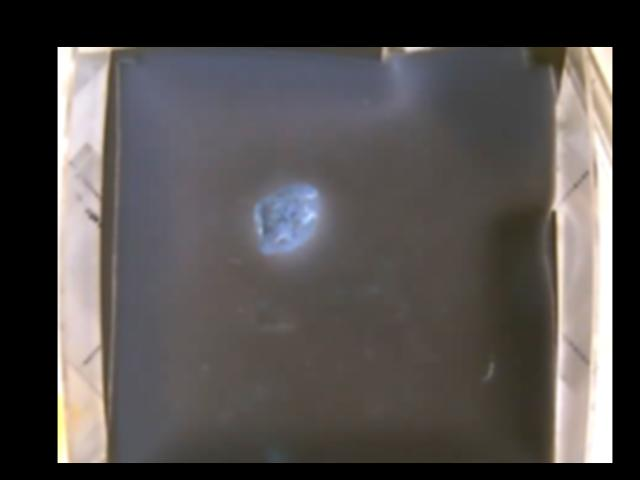Pebble: (255, 183, 320, 252)
